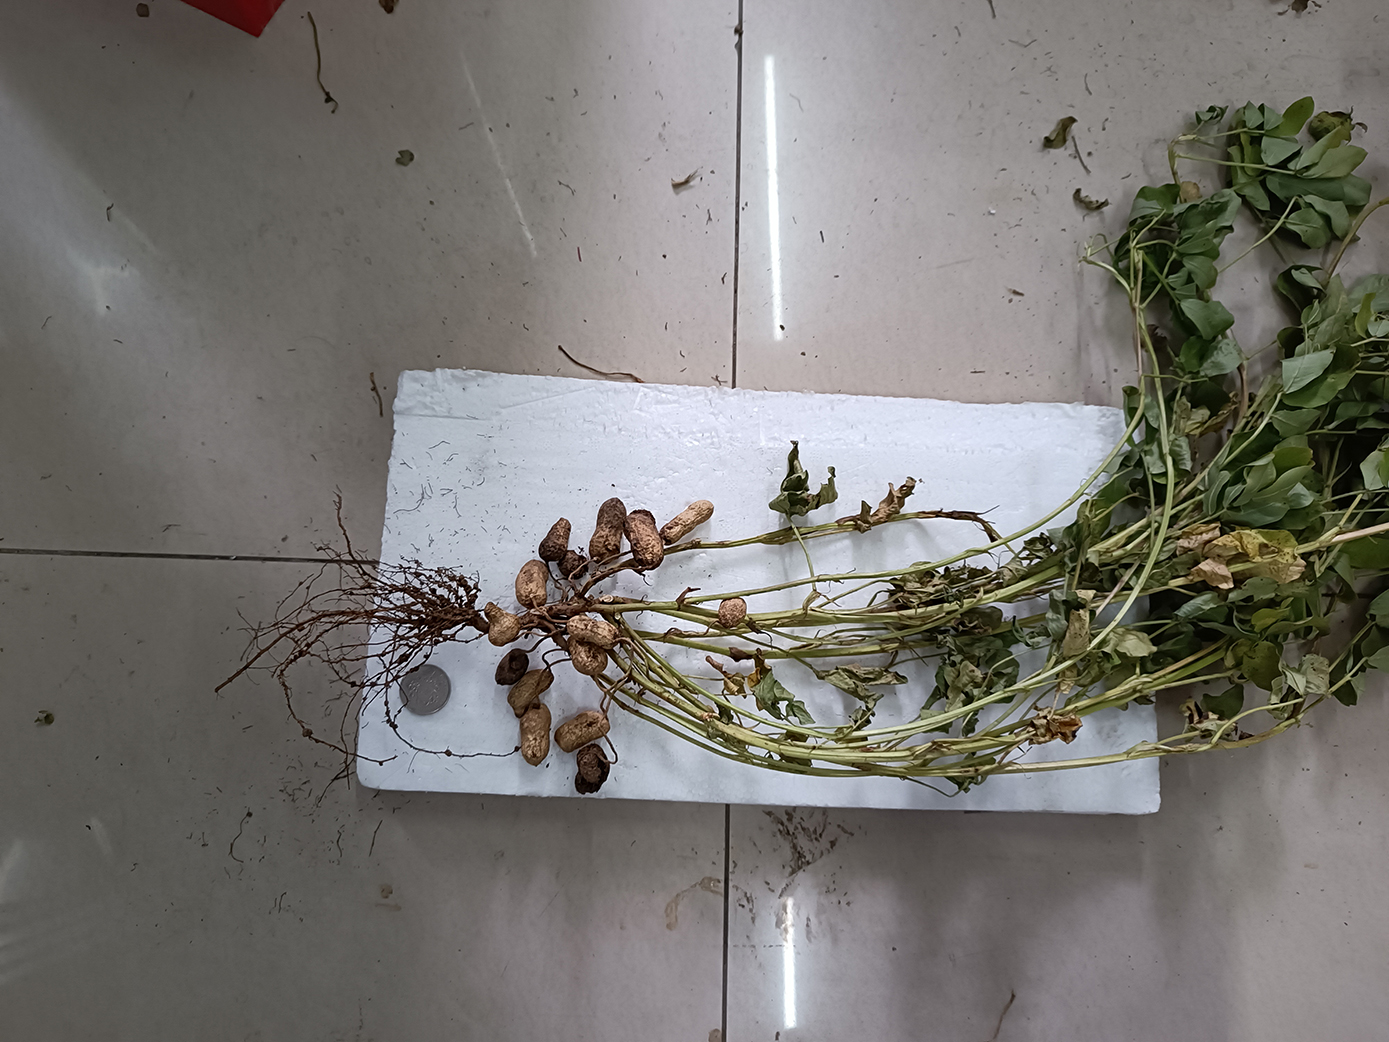h: (658, 499, 714, 543), (518, 701, 554, 767), (554, 710, 613, 751), (508, 668, 554, 714), (564, 615, 617, 648), (484, 601, 520, 647), (564, 636, 607, 673), (518, 559, 549, 607), (718, 597, 746, 629)
l: (625, 508, 662, 572), (591, 498, 623, 561), (574, 746, 609, 797), (541, 519, 572, 561), (493, 649, 529, 684), (555, 549, 589, 580)
